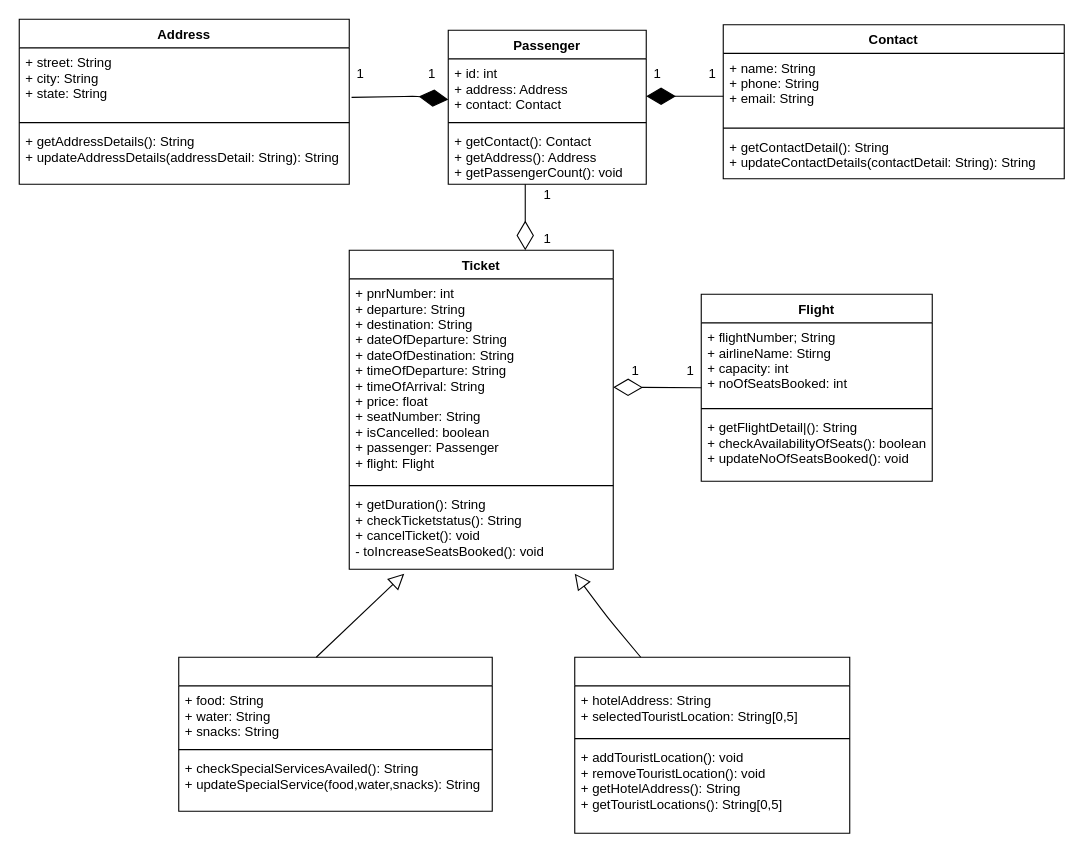
The diagram is 1084 pixels wide and 856 high, and some of its shapes have lost their labels. The box of each missing label's shape, as (x1, y1, x2, y2) in pixels:
RegularTicket: (178, 656, 492, 811)
TouristTicket: (574, 656, 850, 833)
